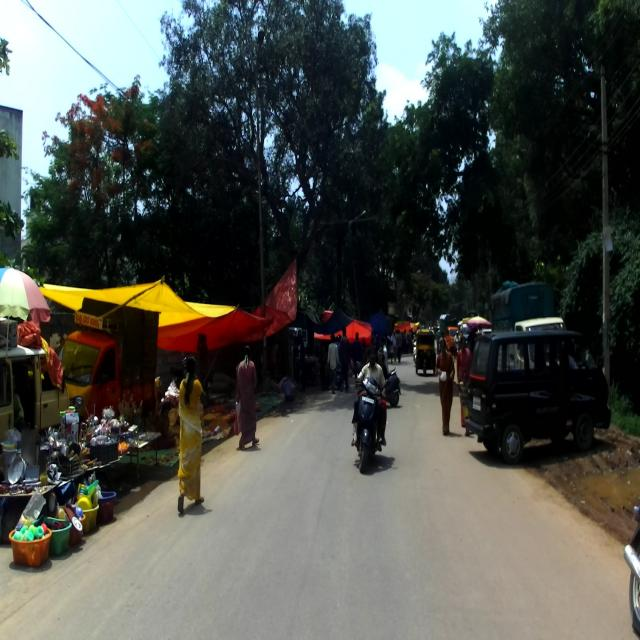car: (465, 330, 611, 463), (0, 347, 69, 465)
scooter: (352, 360, 390, 473), (366, 367, 400, 407)
